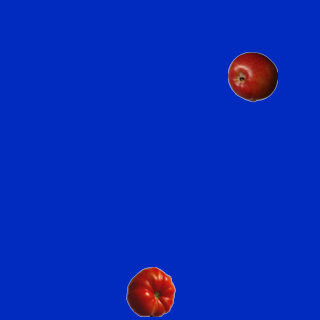Apple Braeburn: (227, 51, 277, 101)
Tomato 3: (125, 266, 175, 316)
